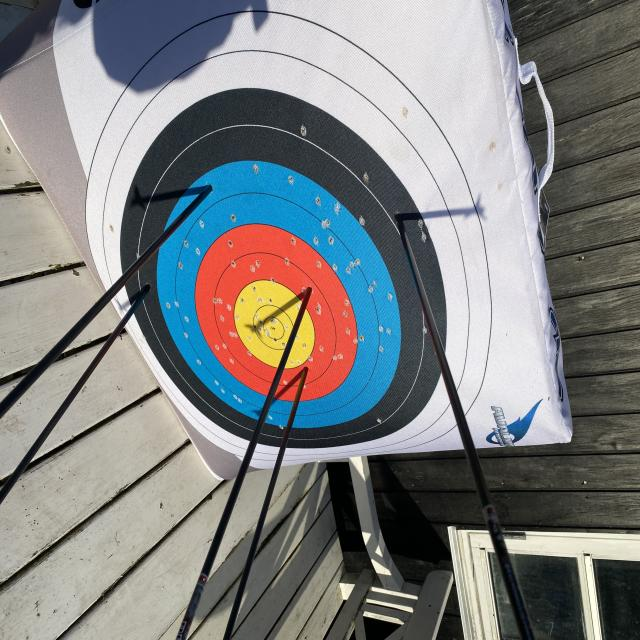Arrow_Black: (125, 268, 164, 308), (386, 196, 411, 243)
Arrow_Blue: (188, 160, 231, 212)
Arrow_Red: (286, 272, 328, 312), (296, 352, 316, 388)
